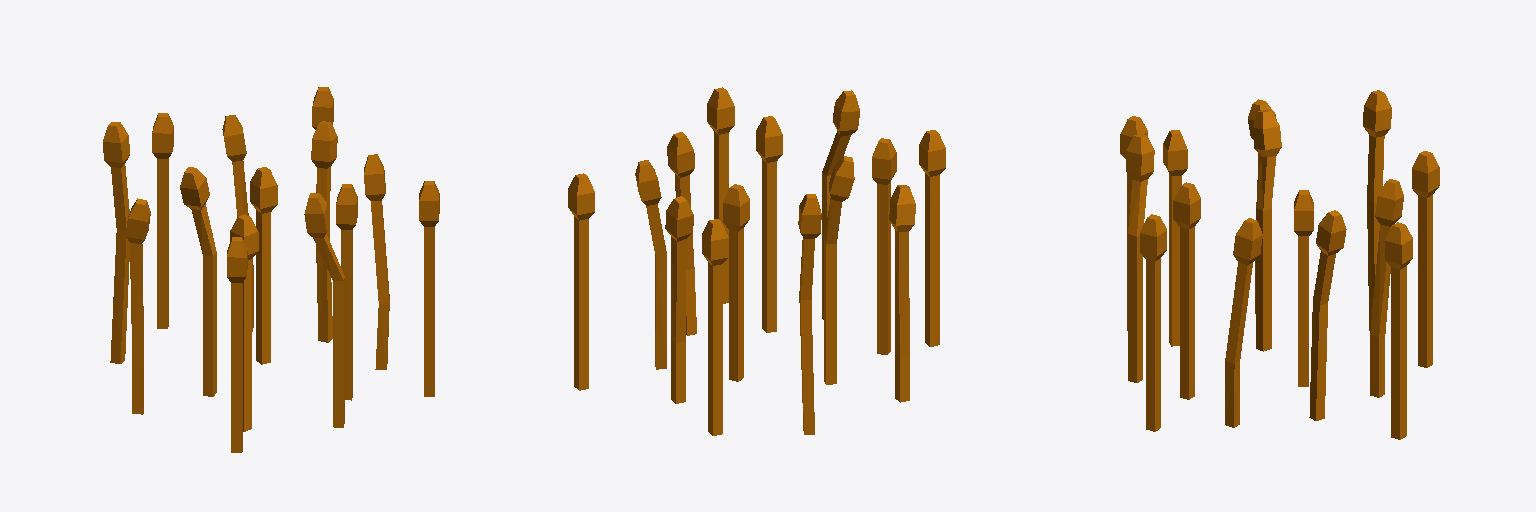
File: wheatStage4.obj
3 views of the same model, side by side, from view 1: azimuth 30°, elevation 25°; view 2: azimuth 150°, elevation 25°; view 3: azimuth 270°, elevation 25° (orthographic).
Visible parts, largest first — view 1: Cube.010; view 2: Cube.010; view 3: Cube.010.
Boxes of the visible parts, x1=… form: Cube.010: x1=103, y1=87, x2=439, y2=452; Cube.010: x1=568, y1=87, x2=945, y2=435; Cube.010: x1=1120, y1=90, x2=1439, y2=439.
Size of the model in its own units: 1.69 by 1.38 by 1.68.